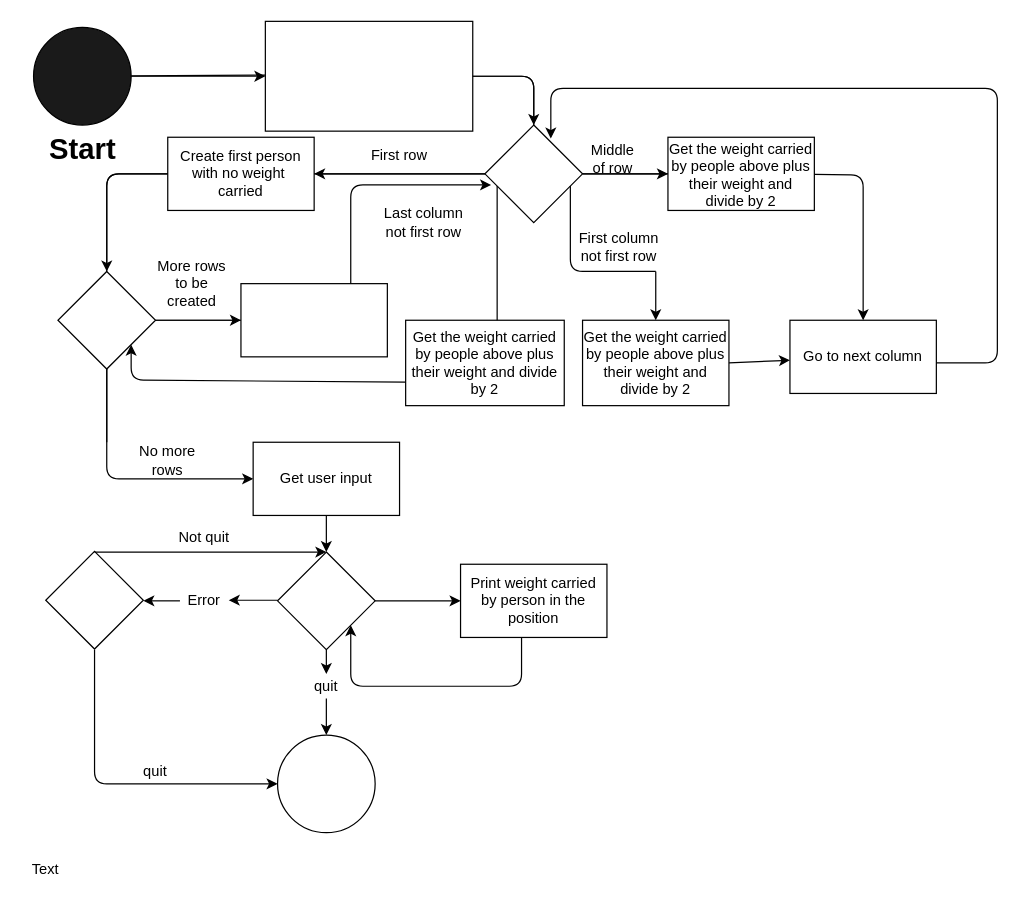
This 1028x903 diagram has some shape labels left out. Each missing label, with the centre of its shape:
Ask to continue: (x=94, y=599)
Get the weight and number of rows: (x=368, y=75)
Start creating next row: (x=313, y=319)
